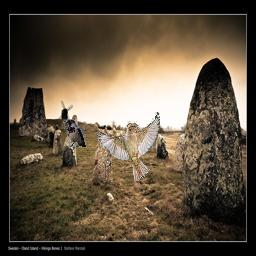Crow: (64, 119, 87, 147)
Sparrow: (96, 111, 160, 181)
